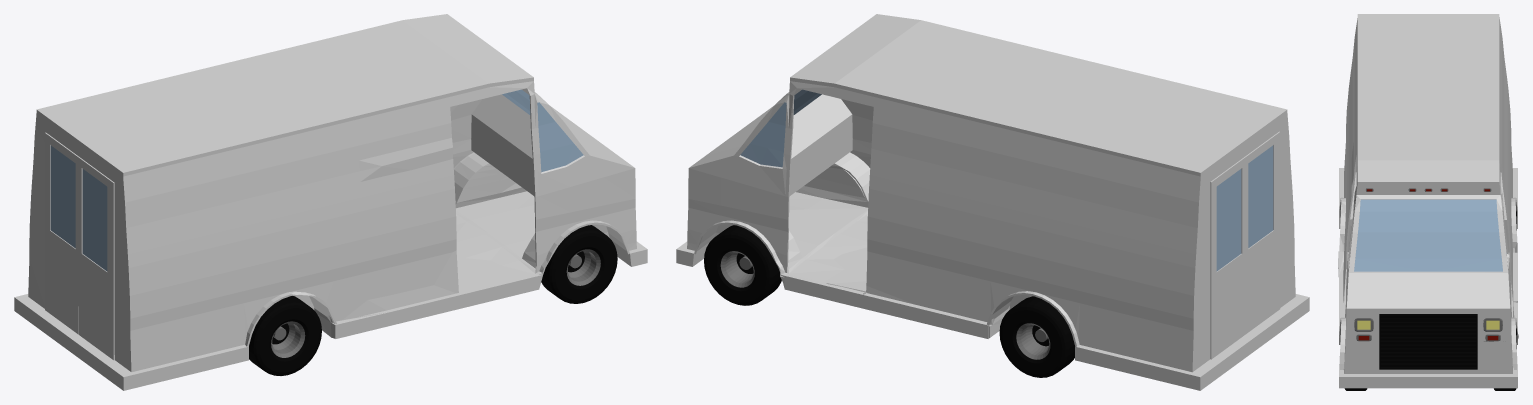
The model's file is camion_icecream.obj.
3 views of the same model, side by side, from view 1: azimuth 30°, elevation 25°; view 2: azimuth 150°, elevation 25°; view 3: azimuth 270°, elevation 25° (orthographic). The views are drawn at different scales.
Visible parts, largest first — view 1: caisse_Plane.001, porte_arriere_Plane.006, Cube_Cube.003, ROUE_Circle, ROUE.001_Circle.001; view 2: caisse_Plane.001, porte_arriere_Plane.006, ROUE_Circle, ROUE.001_Circle.001, Cube_Cube.003; view 3: caisse_Plane.001, radiateur_calandre_Cube.007, phare_Plane.002, phare.001_Plane.003.
Part boxes in pixels (x1=…): caisse_Plane.001: x1=14, y1=14, x2=647, y2=390; porte_arriere_Plane.006: x1=45, y1=132, x2=114, y2=360; Cube_Cube.003: x1=50, y1=145, x2=107, y2=271; ROUE_Circle: x1=249, y1=296, x2=321, y2=375; ROUE.001_Circle.001: x1=541, y1=225, x2=617, y2=303; caisse_Plane.001: x1=676, y1=14, x2=1309, y2=390; porte_arriere_Plane.006: x1=1210, y1=131, x2=1280, y2=359; ROUE_Circle: x1=999, y1=296, x2=1075, y2=377; ROUE.001_Circle.001: x1=704, y1=225, x2=781, y2=305; Cube_Cube.003: x1=1216, y1=145, x2=1273, y2=271; caisse_Plane.001: x1=1338, y1=14, x2=1518, y2=388; radiateur_calandre_Cube.007: x1=1379, y1=314, x2=1477, y2=369; phare_Plane.002: x1=1354, y1=318, x2=1502, y2=331; phare.001_Plane.003: x1=1356, y1=334, x2=1500, y2=341.
Bounding box in the file's own units: 3.29 × 1.42 × 1.2.
